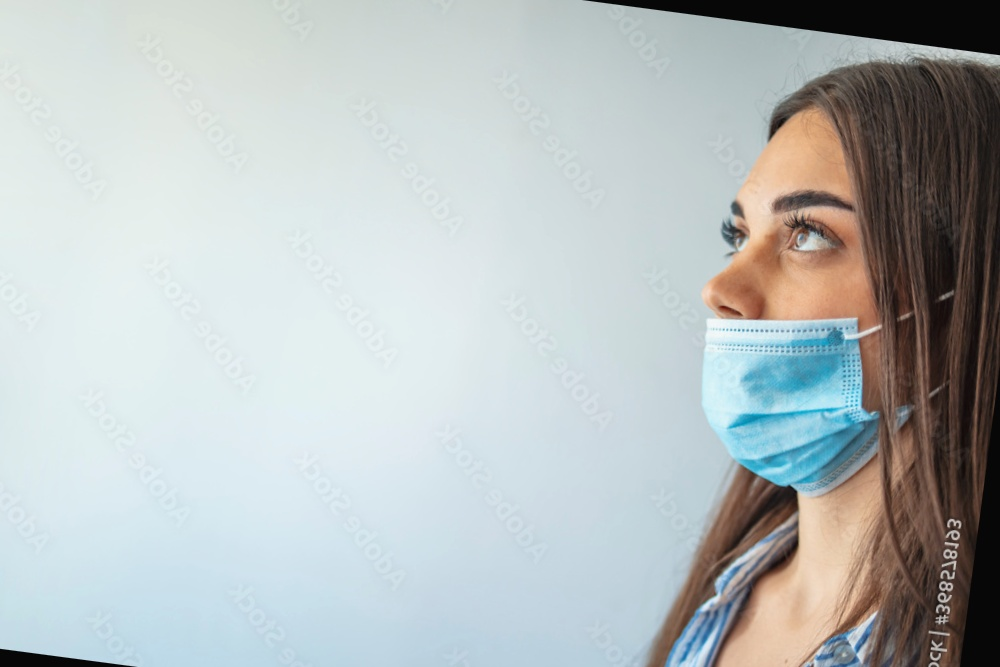mask_weared_incorrect: (700, 39, 996, 506)
